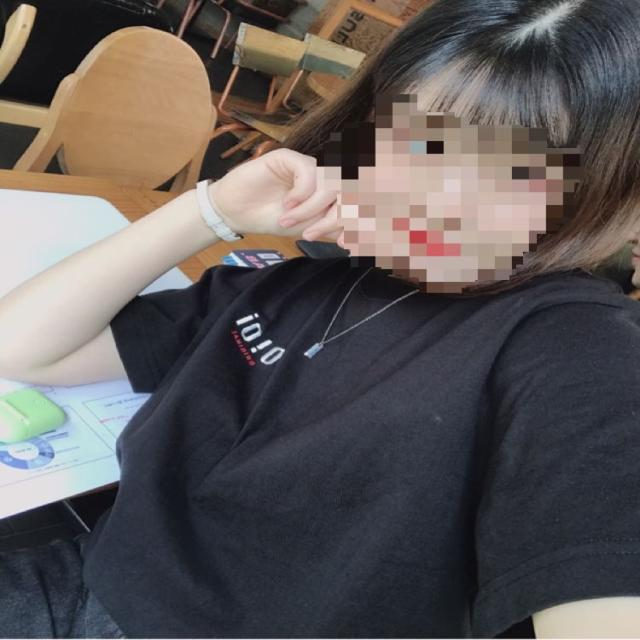shortsleeve: (95, 253, 634, 634)
